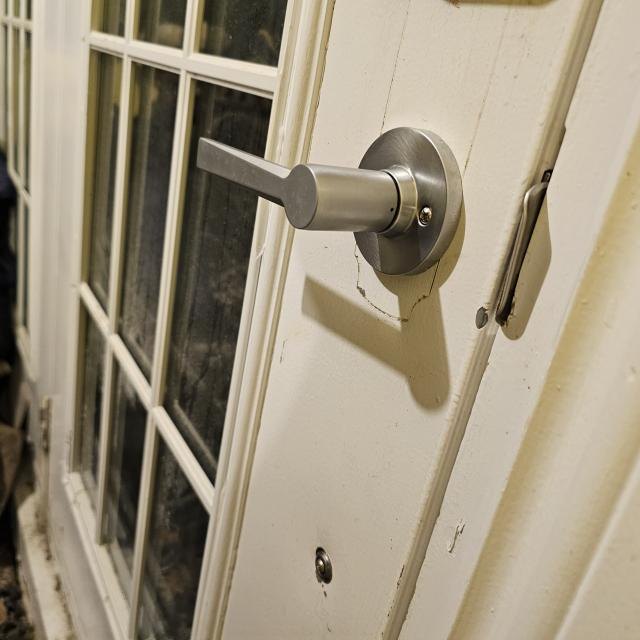door-handle: (198, 128, 462, 275)
